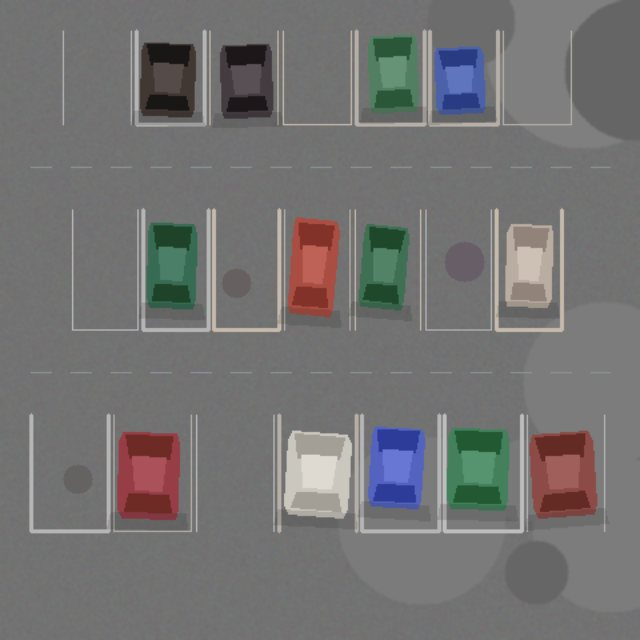space-empty: (31, 415, 108, 531), (196, 415, 273, 531), (213, 209, 279, 329), (425, 209, 491, 329), (72, 209, 137, 329), (63, 31, 131, 124), (283, 31, 351, 124), (503, 31, 571, 124)
space-occupied: (113, 415, 191, 531), (361, 415, 439, 531), (279, 415, 356, 531), (444, 415, 521, 531), (527, 415, 604, 531), (143, 209, 208, 329), (284, 209, 349, 329), (355, 209, 420, 329), (496, 209, 561, 329), (136, 31, 204, 124), (209, 31, 277, 124), (356, 31, 424, 124), (429, 31, 497, 124)
